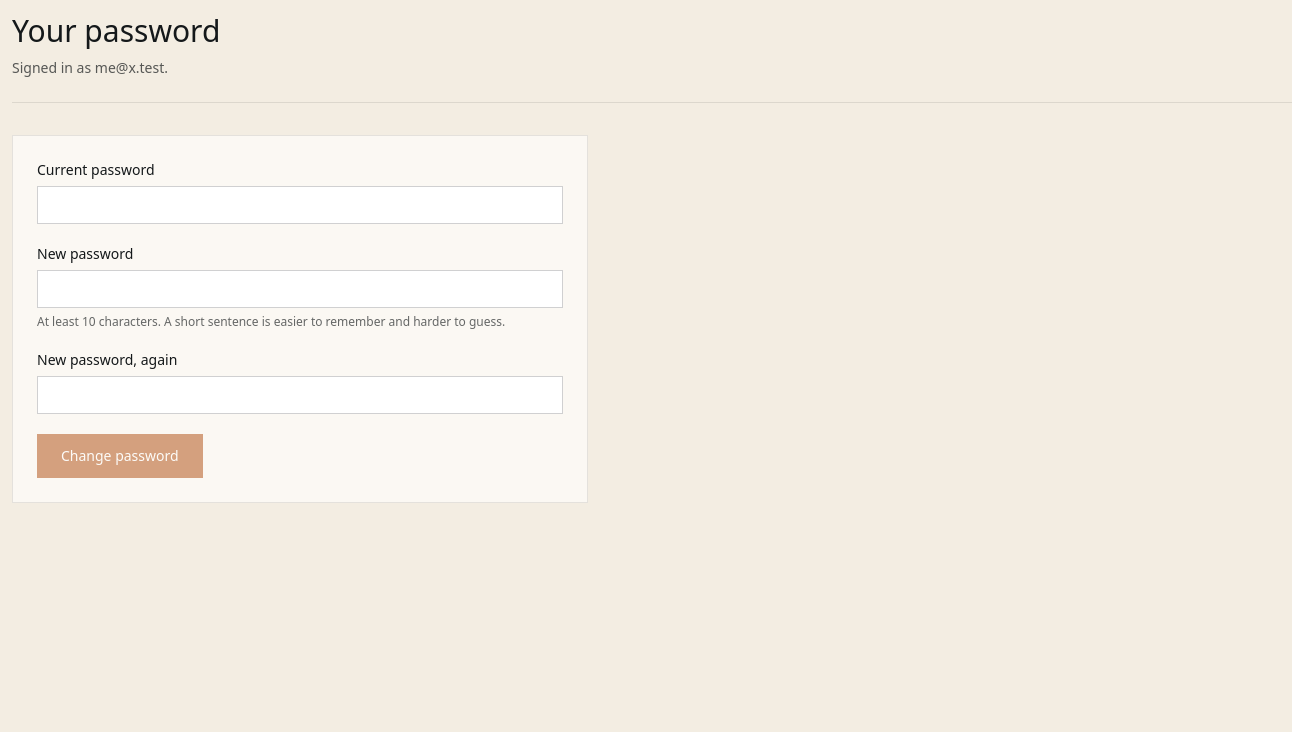
Test: AccountForm › refuses a new password that does not match its confirmation, before sending anything
Type "old-password" into the password field labelled "Current password".
click(300, 204); type("old-password")  # box [37,186,563,224]
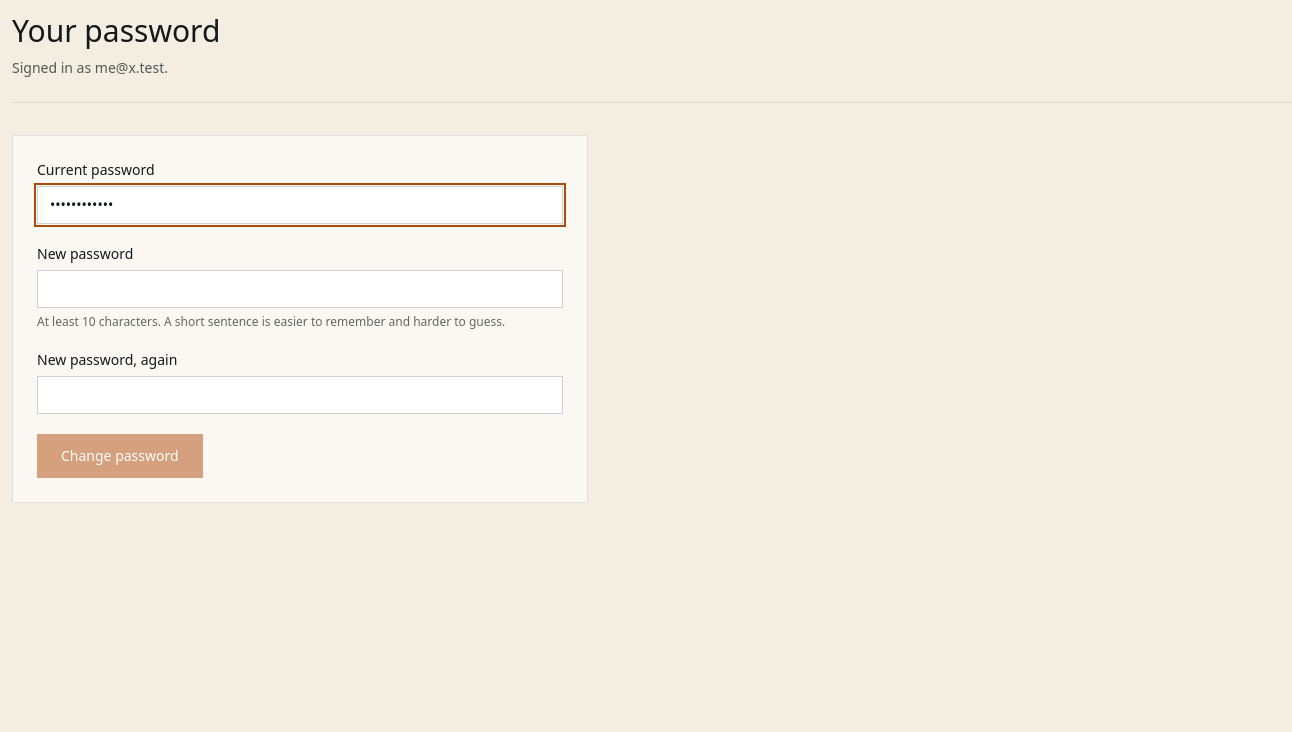
Type "a-new-password-1" into the password field labelled "New password".
click(300, 288); type("a-new-password-1")  # box [37,270,563,308]
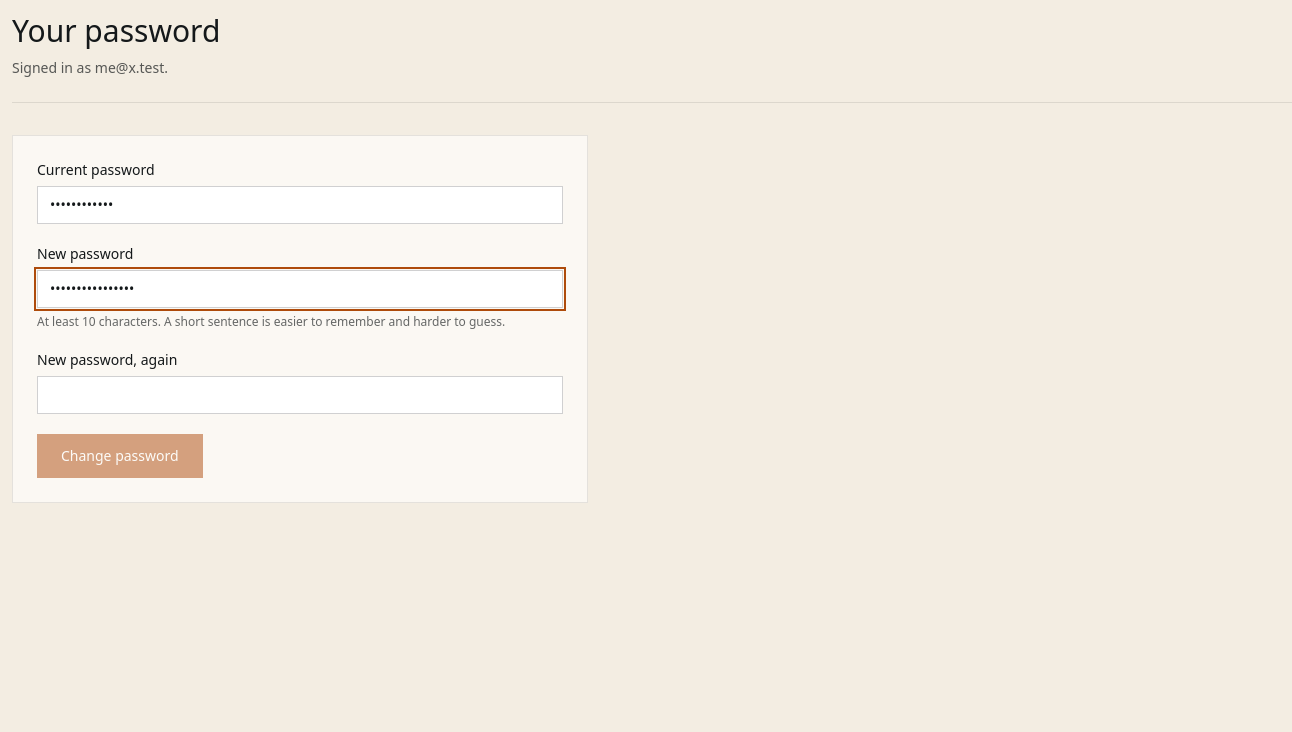
Type "a-new-password-2" into the password field labelled "New password, again".
click(300, 394); type("a-new-password-2")  # box [37,376,563,414]
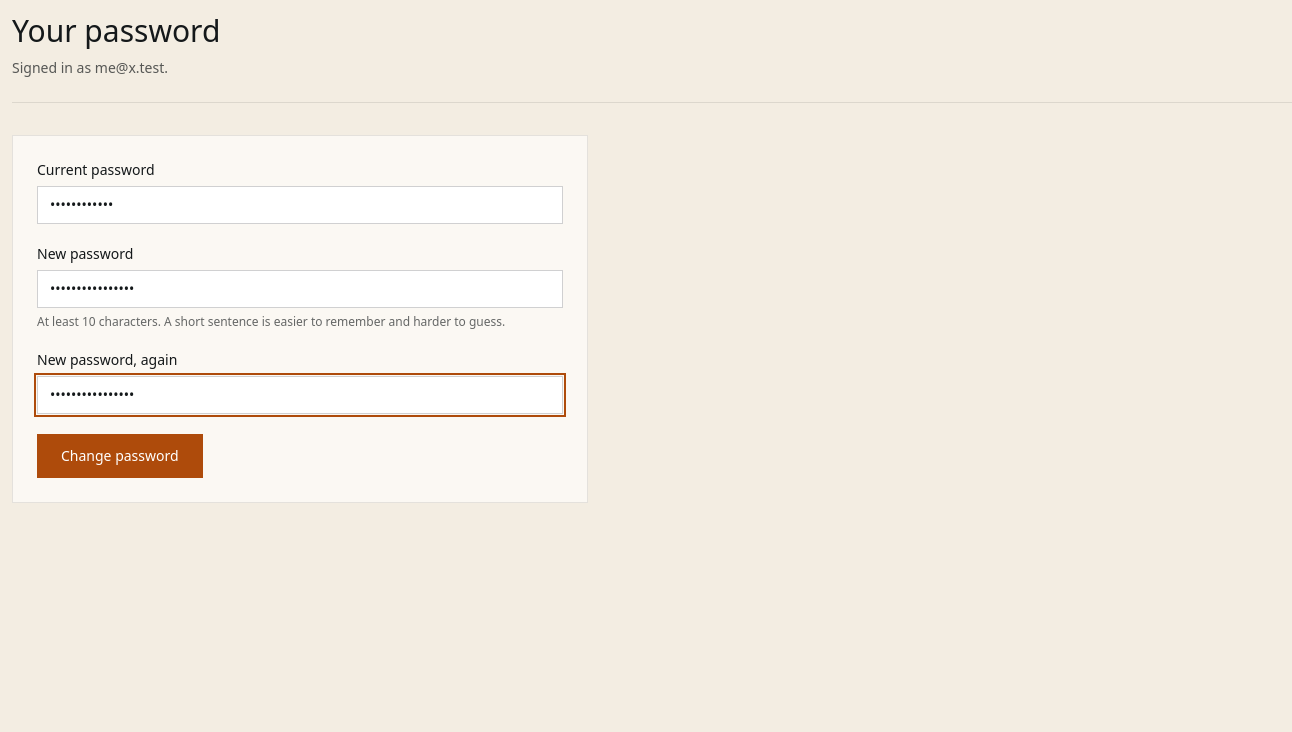
Click the button "Change password".
click(120, 456)  # box [37,434,203,478]
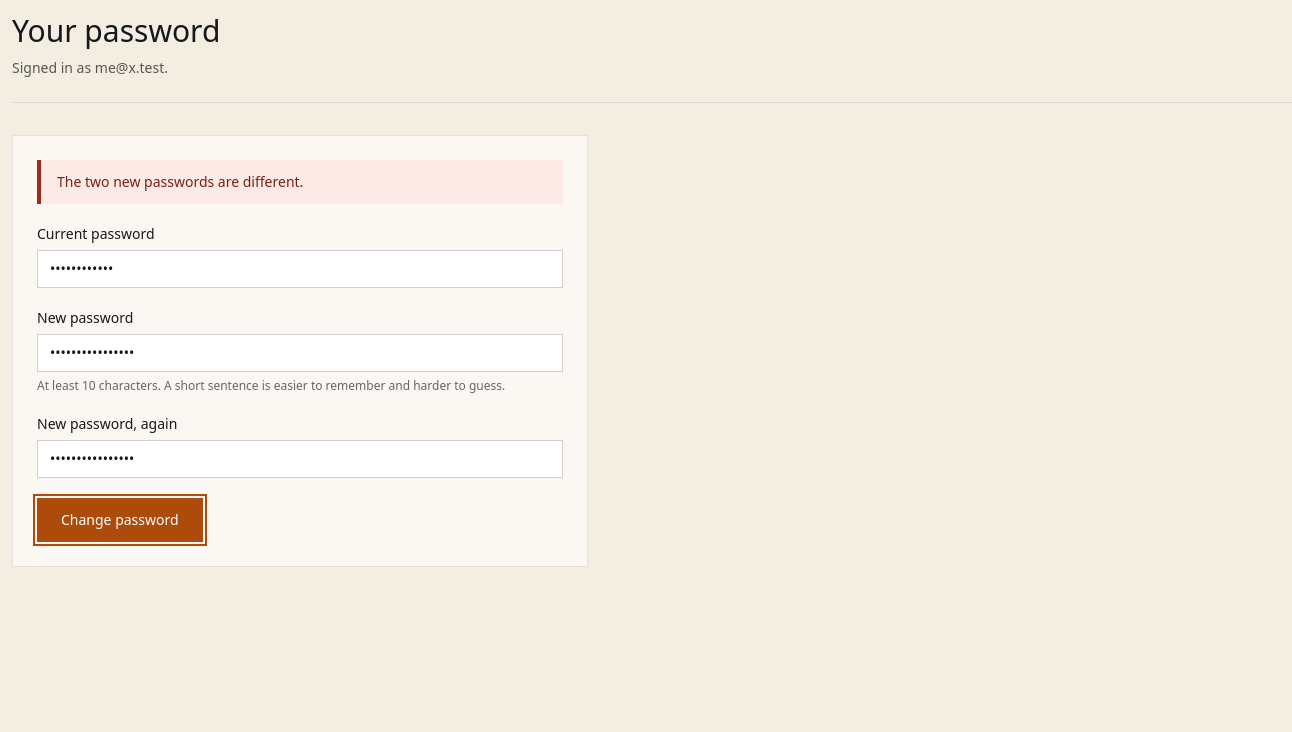
Result: the message reads "The two new passwords are different." at [57,172,303,190]
